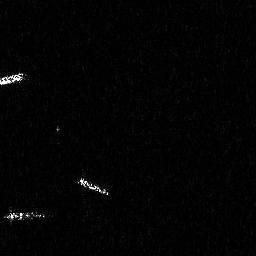ship: (2, 207, 51, 225), (74, 174, 110, 196), (1, 71, 28, 87)
